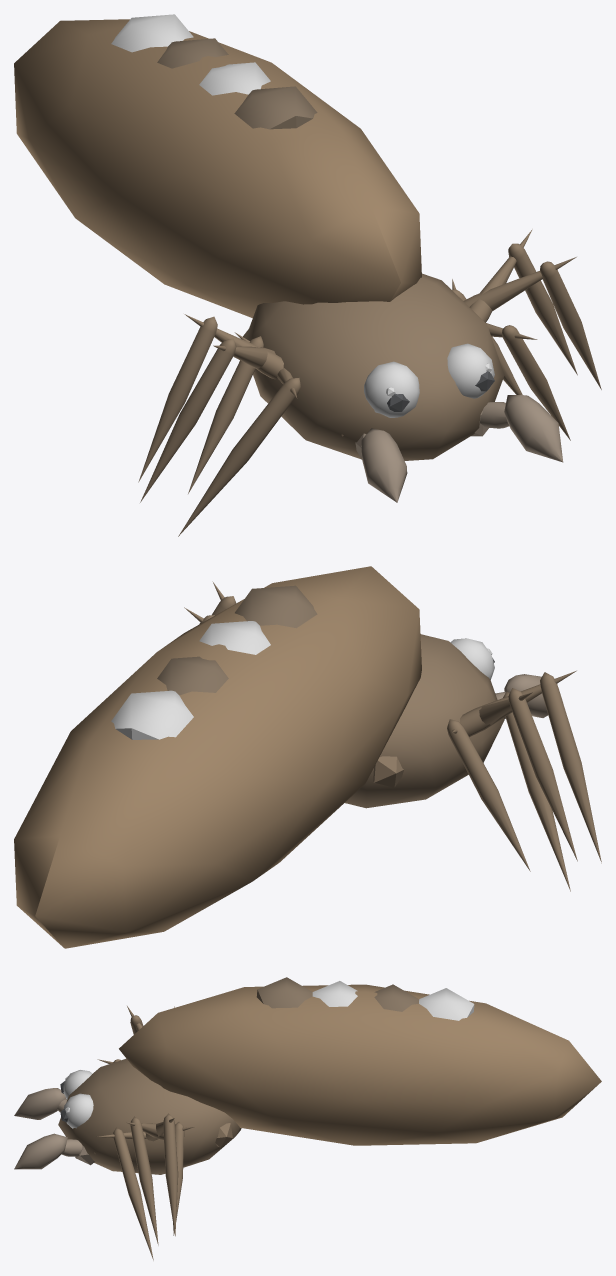
The model's file is cyclosa-insulana.glb.
3 views of the same model, one above another, from view 1: azimuth 30°, elevation 25°; view 2: azimuth 150°, elevation 25°; view 3: azimuth 270°, elevation 25° (orthographic). The views are drawn at different scales.
Parts seen in each view (by area): view 1: abdomen, cephalothorax, leg1-r0, leg2-r0, leg2-l0, leg3-r0, leg1-l0, palp-l1, eye0-r, palp-r1, leg0-r0, leg3-l0 (+1 smaller); view 2: abdomen, cephalothorax, leg2-r0, leg1-r0, leg0-r0, leg3-r0, eye0-r, palp-r1; view 3: abdomen, cephalothorax, leg2-l0, leg3-l0, leg1-l0, palp-l1, palp-r1, eye0-l, leg0-l0, eye0-r.
Boxes of the visible parts, x1=… form: abdomen: x1=14, y1=14, x2=421, y2=318; cephalothorax: x1=243, y1=273, x2=504, y2=460; leg1-r0: x1=138, y1=314, x2=283, y2=482; leg2-r0: x1=140, y1=338, x2=275, y2=502; leg2-l0: x1=463, y1=257, x2=601, y2=389; leg3-r0: x1=178, y1=368, x2=300, y2=536; leg1-l0: x1=469, y1=229, x2=577, y2=375; palp-l1: x1=504, y1=395, x2=563, y2=462; eye0-r: x1=364, y1=361, x2=419, y2=417; palp-r1: x1=361, y1=428, x2=407, y2=502; leg0-r0: x1=188, y1=332, x2=263, y2=493; leg3-l0: x1=486, y1=323, x2=570, y2=440; abdomen: x1=14, y1=566, x2=421, y2=948; cephalothorax: x1=345, y1=634, x2=504, y2=808; leg2-r0: x1=460, y1=670, x2=601, y2=863; leg1-r0: x1=479, y1=688, x2=577, y2=861; leg0-r0: x1=447, y1=719, x2=530, y2=871; leg3-r0: x1=503, y1=691, x2=570, y2=891; eye0-r: x1=450, y1=638, x2=494, y2=679; palp-r1: x1=504, y1=674, x2=547, y2=717; abdomen: x1=119, y1=977, x2=601, y2=1145; cephalothorax: x1=58, y1=1058, x2=241, y2=1174; leg2-l0: x1=127, y1=1116, x2=163, y2=1245; leg3-l0: x1=97, y1=1127, x2=153, y2=1260; leg1-l0: x1=145, y1=1113, x2=178, y2=1236; palp-l1: x1=14, y1=1133, x2=67, y2=1169; palp-r1: x1=14, y1=1088, x2=66, y2=1119; eye0-l: x1=60, y1=1093, x2=93, y2=1128; leg0-l0: x1=173, y1=1122, x2=193, y2=1235; eye0-r: x1=60, y1=1070, x2=92, y2=1099.
Size of the model in its own units: 0.3707 by 0.2485 by 0.6182.
